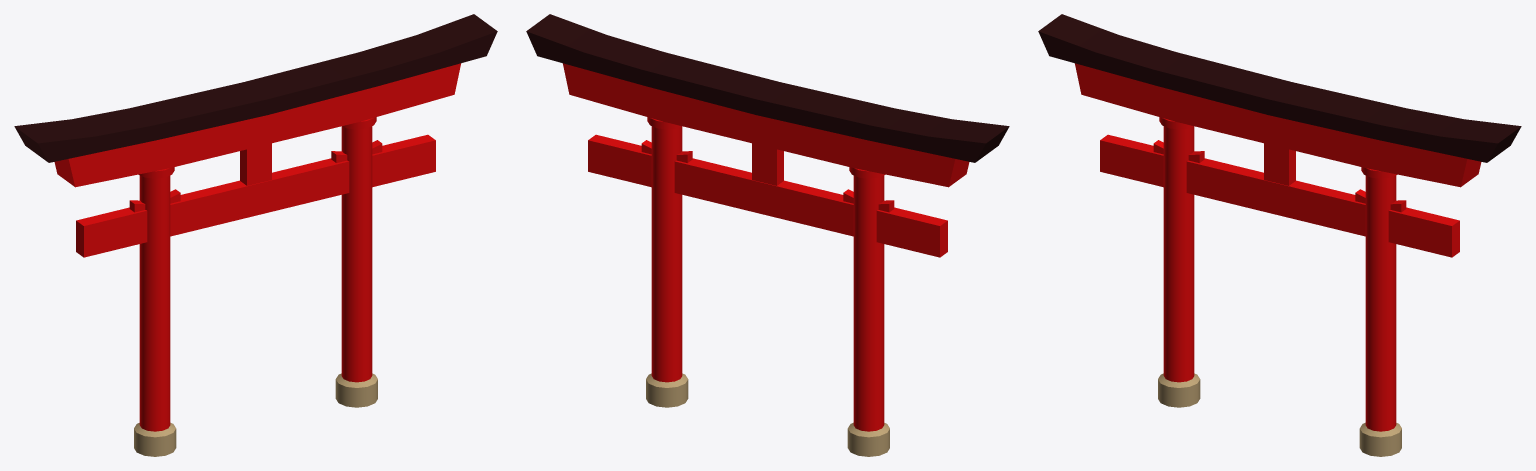
File: Prop_ToriiGate1_FabianZ_M.fbx
3 views of the same model, side by side, from view 1: azimuth 30°, elevation 25°; view 2: azimuth 150°, elevation 25°; view 3: azimuth 330°, elevation 25° (orthographic).
Visible parts, largest first — view 1: Torii_Gate; view 2: Torii_Gate; view 3: Torii_Gate.
Boxes of the visible parts, <box> form: Torii_Gate: <box>14,14,497,456</box>; Torii_Gate: <box>526,14,1009,456</box>; Torii_Gate: <box>1038,14,1521,456</box>.
Bounding box in the file's own units: 1429 × 1024 × 127.
